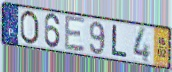4: (132, 26, 153, 65)
6: (44, 13, 61, 49)
9: (88, 20, 106, 56)
E: (64, 14, 86, 54)
L: (111, 23, 129, 59)
O: (19, 9, 40, 46)
